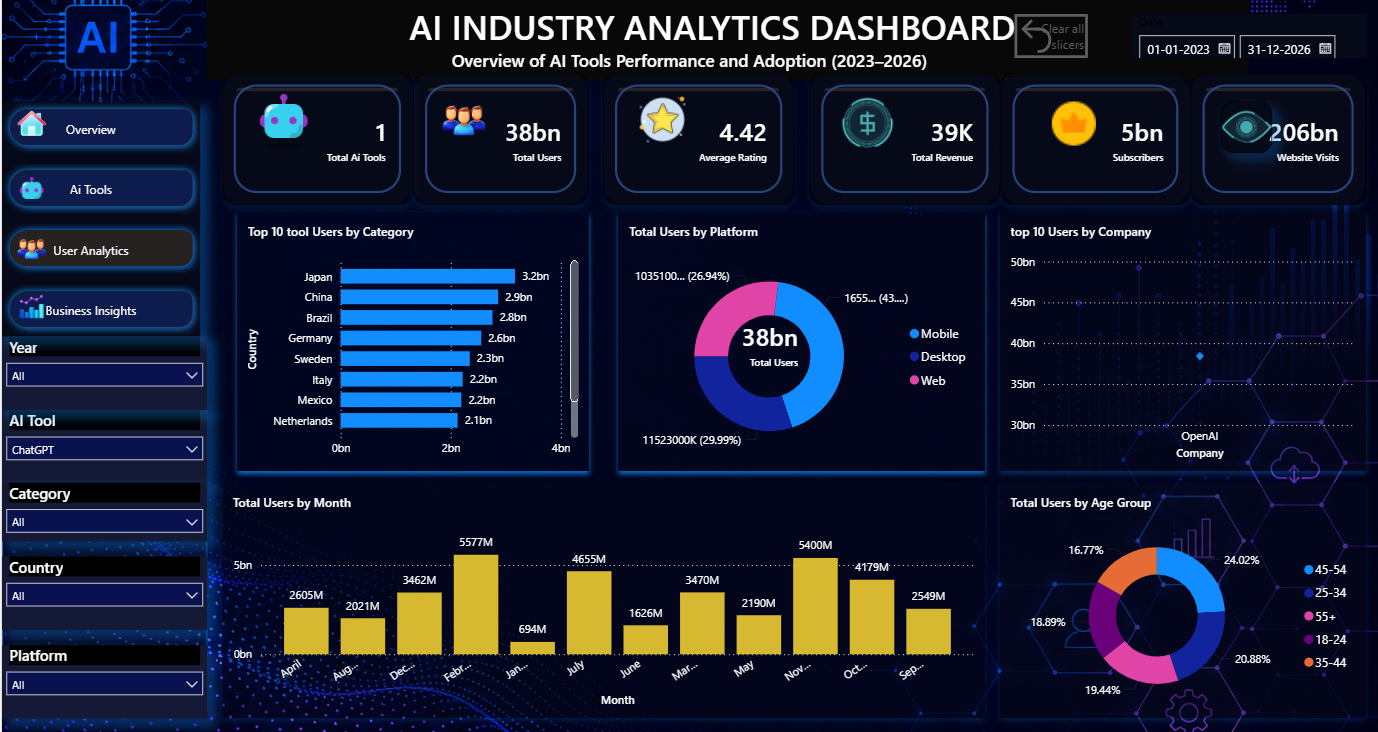

The page's visual inventory and layout, read from the dashboard file:
{"tool":"powerbi","page":{"name":"User Analytics","canvas":[1500,800],"ordinal":2},"visuals":[{"type":"textbox","box":[224,0,1136,88],"z":0},{"type":"slicer","fields":{"Values":["Dim_Date.Date"]},"box":[1232,16,256,48],"z":1000},{"type":"cardVisual","fields":{"Data":["Table.Total Users"]},"box":[448.6,80,191.4,144.3],"z":2000},{"type":"cardVisual","fields":{"Data":["Table.Total Revenue"]},"box":[880,80,208,144],"z":3000},{"type":"cardVisual","fields":{"Data":["Table.Total Ai Tools"]},"box":[240,80,208.6,144.3],"z":4000},{"type":"cardVisual","fields":{"Data":["Table.Average Rating"]},"box":[656,80,208,144],"z":5000},{"type":"cardVisual","fields":{"Data":["Table.Subscribers"]},"box":[1088.6,80,207.1,144.3],"z":6000},{"type":"cardVisual","fields":{"Data":["Table.Website Visits"]},"box":[1296,80,192,144],"z":7000},{"type":"image","box":[912,96,64,80],"z":8000},{"type":"image","box":[271.4,100,72,64],"z":9000},{"type":"image","box":[480,96,48,72],"z":10000},{"type":"image","box":[688,96,64,72],"z":11000},{"type":"image","box":[1328,112,56,56],"z":12000},{"type":"shape","box":[0,0,224,16],"z":13000},{"type":"shape","box":[0,368,224,416],"z":14000},{"type":"barChart","title":"Top 10 tool Users by Category","fields":{"Y":["Table.Total Users"],"Category":["Dim_Country.Country"]},"box":[256,232,384,282.7],"z":15000},{"type":"actionButton","box":[1104,16,80,48],"z":16000},{"type":"slicer","fields":{"Values":["Dim_AI_Tools.AI Tool"]},"box":[0,448,224,80],"z":17000},{"type":"slicer","fields":{"Values":["Dim_AI_Tools.Category"]},"box":[0,528,224,64],"z":18000},{"type":"slicer","fields":{"Values":["Dim_Country.Country"]},"box":[0,608,224,80],"z":19000},{"type":"slicer","fields":{"Values":["Dim_Platform.Platform"]},"box":[0,704,224,80],"z":20000},{"type":"slicer","fields":{"Values":["Dim_Date.Year"]},"box":[0,368,224,80],"z":21000},{"type":"pageNavigator","box":[0,112,216,256],"z":22000},{"type":"image","box":[16,112,32,48],"z":23000},{"type":"image","box":[16,184,32,48],"z":24000},{"type":"image","box":[8,320,48,32],"z":25000},{"type":"image","box":[16,248,32,48],"z":26000},{"type":"donutChart","fields":{"Y":["Table.Total Users"],"Category":["Dim_Platform.Platform"]},"box":[672,232,400,282.7],"z":27000},{"type":"cardVisual","fields":{"Data":["Table.Total Users"]},"box":[735.8,303.9,144,144],"z":28000},{"type":"lineChart","title":"top 10 Users by Company","fields":{"Y":["Table.Total Users"],"Category":["Dim_AI_Tools.Company"]},"box":[1088,232,400,282.7],"z":29000},{"type":"clusteredColumnChart","fields":{"Y":["Table.Total Users"],"Category":["Dim_Date.Month"]},"box":[240,528,832,256],"z":30000},{"type":"donutChart","fields":{"Category":["Fact_AI_Usage.Age Group"],"Y":["Table.Total Users"]},"box":[1088,528,400,256],"z":31000},{"type":"image","box":[1136,112,64,48],"z":32000}]}

Visuals, with their boxes in screenshot pixels (x1, y1, x2, y2), scaled from the page's 1500x800 canvas onto the 1378x732 screenshot:
textbox: [206, 0, 1249, 81]
slicer - Dim_Date.Date: [1132, 15, 1367, 59]
cardVisual - Table.Total Users: [412, 73, 588, 205]
cardVisual - Table.Total Revenue: [808, 73, 1000, 205]
cardVisual - Table.Total Ai Tools: [220, 73, 412, 205]
cardVisual - Table.Average Rating: [603, 73, 794, 205]
cardVisual - Table.Subscribers: [1000, 73, 1190, 205]
cardVisual - Table.Website Visits: [1191, 73, 1367, 205]
image: [838, 88, 897, 161]
image: [249, 92, 315, 150]
image: [441, 88, 485, 154]
image: [632, 88, 691, 154]
image: [1220, 102, 1271, 154]
shape: [0, 0, 206, 15]
shape: [0, 337, 206, 717]
"Top 10 tool Users by Category" barChart: [235, 212, 588, 471]
actionButton: [1014, 15, 1088, 59]
slicer - Dim_AI_Tools.AI Tool: [0, 410, 206, 483]
slicer - Dim_AI_Tools.Category: [0, 483, 206, 542]
slicer - Dim_Country.Country: [0, 556, 206, 630]
slicer - Dim_Platform.Platform: [0, 644, 206, 717]
slicer - Dim_Date.Year: [0, 337, 206, 410]
pageNavigator: [0, 102, 198, 337]
image: [15, 102, 44, 146]
image: [15, 168, 44, 212]
image: [7, 293, 51, 322]
image: [15, 227, 44, 271]
donutChart - Table.Total Users x Dim_Platform.Platform: [617, 212, 985, 471]
cardVisual - Table.Total Users: [676, 278, 808, 410]
"top 10 Users by Company" lineChart: [1000, 212, 1367, 471]
clusteredColumnChart - Table.Total Users x Dim_Date.Month: [220, 483, 985, 717]
donutChart - Fact_AI_Usage.Age Group x Table.Total Users: [1000, 483, 1367, 717]
image: [1044, 102, 1102, 146]
